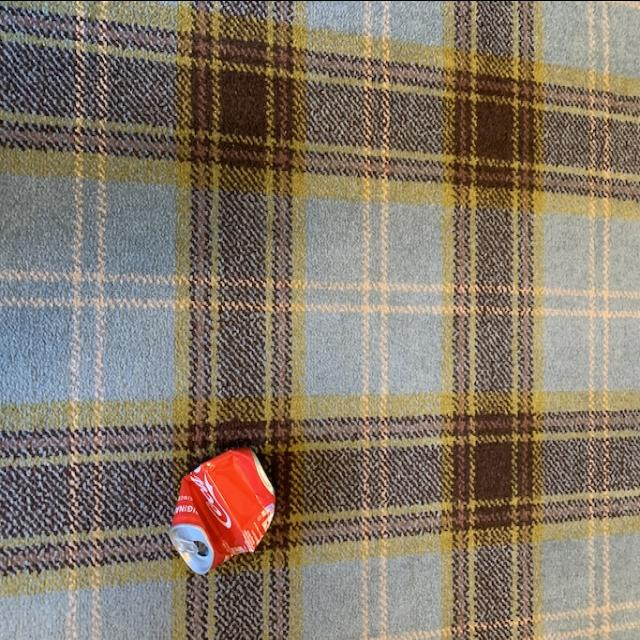litter: (170, 440, 282, 574)
